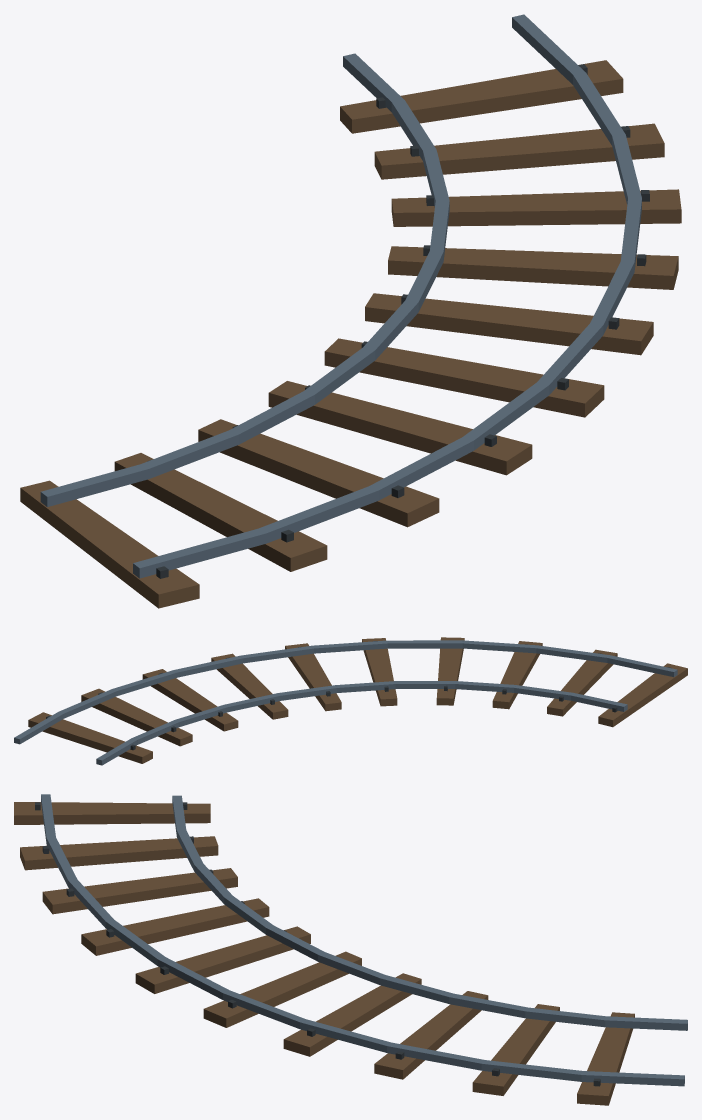
File: Tracks90Left.FBX
The picture shows the model from 3 angles, top to bottom: view 1: azimuth 30°, elevation 25°; view 2: azimuth 150°, elevation 25°; view 3: azimuth 270°, elevation 25°; orthographic projection. The views are drawn at different scales.
Visible parts, largest first — view 1: Box019; view 2: Box019; view 3: Box019.
Boxes of the visible parts, box(x1,y1,x2,y2) form: Box019: box(20, 14, 681, 608); Box019: box(14, 637, 687, 765); Box019: box(14, 794, 687, 1105).
Bounding box in the file's own units: 7.54 × 0.2086 × 7.3.
